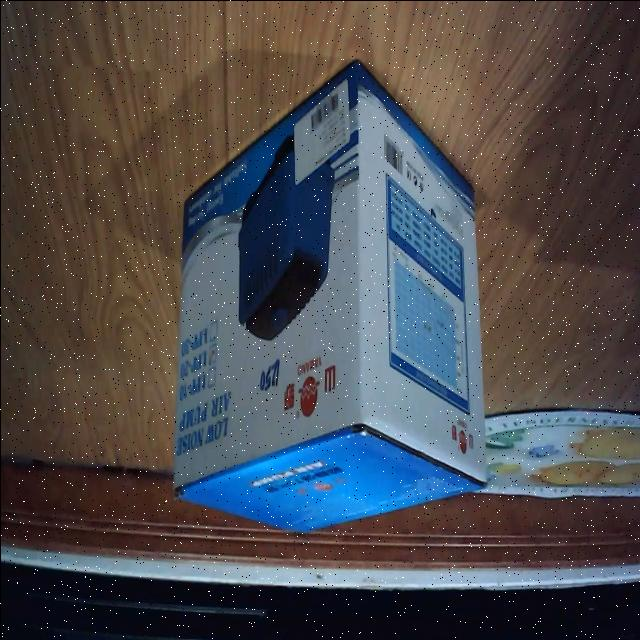YAMANO_LPP_20: (163, 39, 491, 550)
